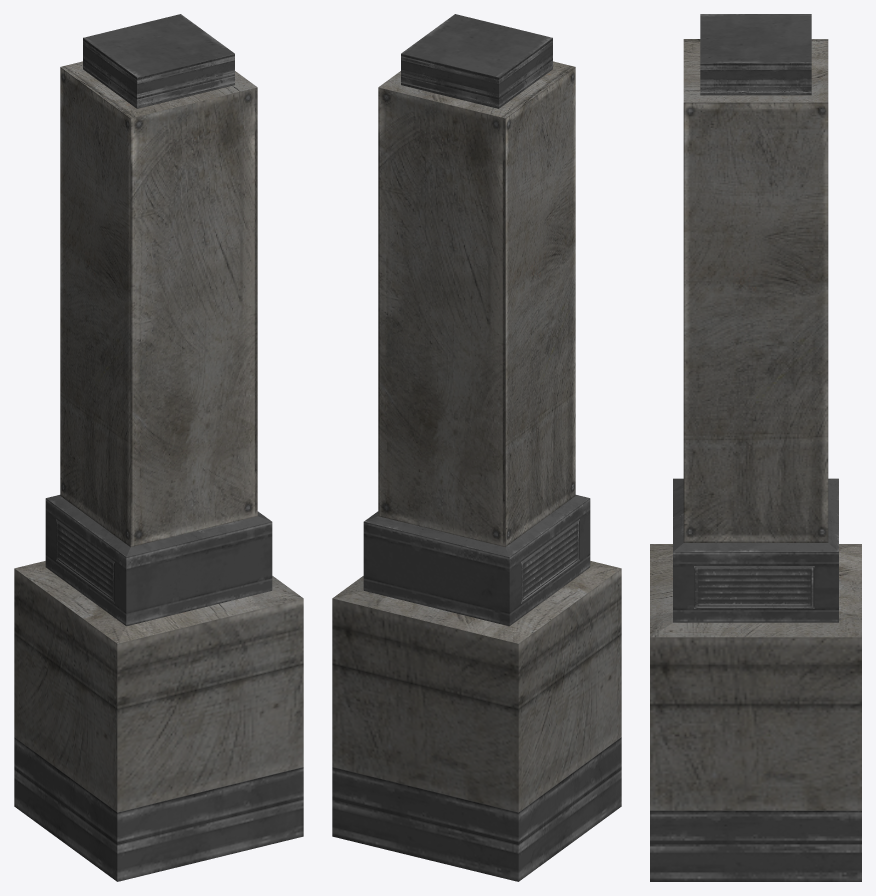
Rendered from CP_Fence_B_Post_01.fbx.
3 renders of one model, left to right at view 1: azimuth 30°, elevation 25°; view 2: azimuth 150°, elevation 25°; view 3: azimuth 270°, elevation 25°, orthographic. The views are drawn at different scales.
Visible parts, largest first — view 1: CP_Fence_B_Post_01; view 2: CP_Fence_B_Post_01; view 3: CP_Fence_B_Post_01.
Part boxes in pixels (x1=…): CP_Fence_B_Post_01: x1=14, y1=14, x2=303, y2=881; CP_Fence_B_Post_01: x1=332, y1=14, x2=621, y2=881; CP_Fence_B_Post_01: x1=650, y1=14, x2=861, y2=881.
Bounding box in the file's own units: 83.5 × 332 × 80.07.
